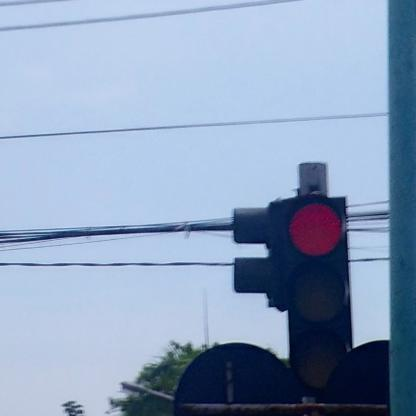red: (282, 197, 352, 391)
